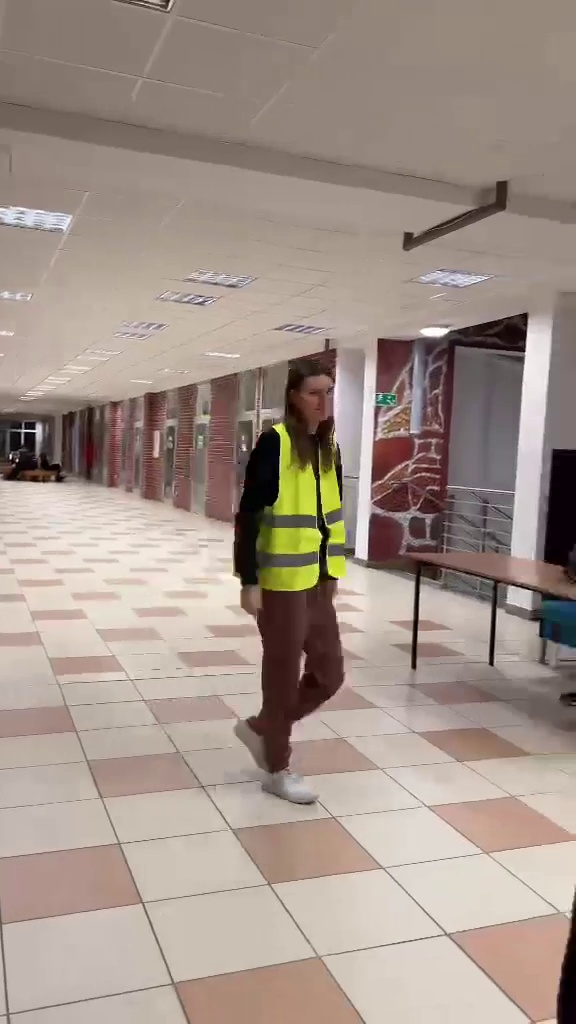vest: (235, 347, 360, 803)
